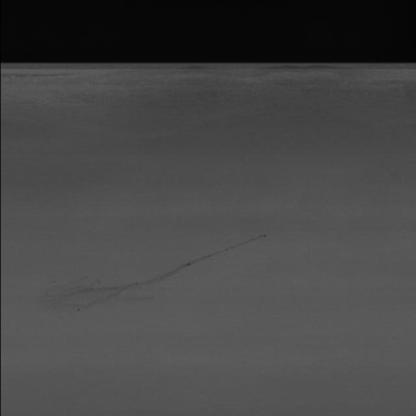water_spot: (49, 210, 268, 309)
